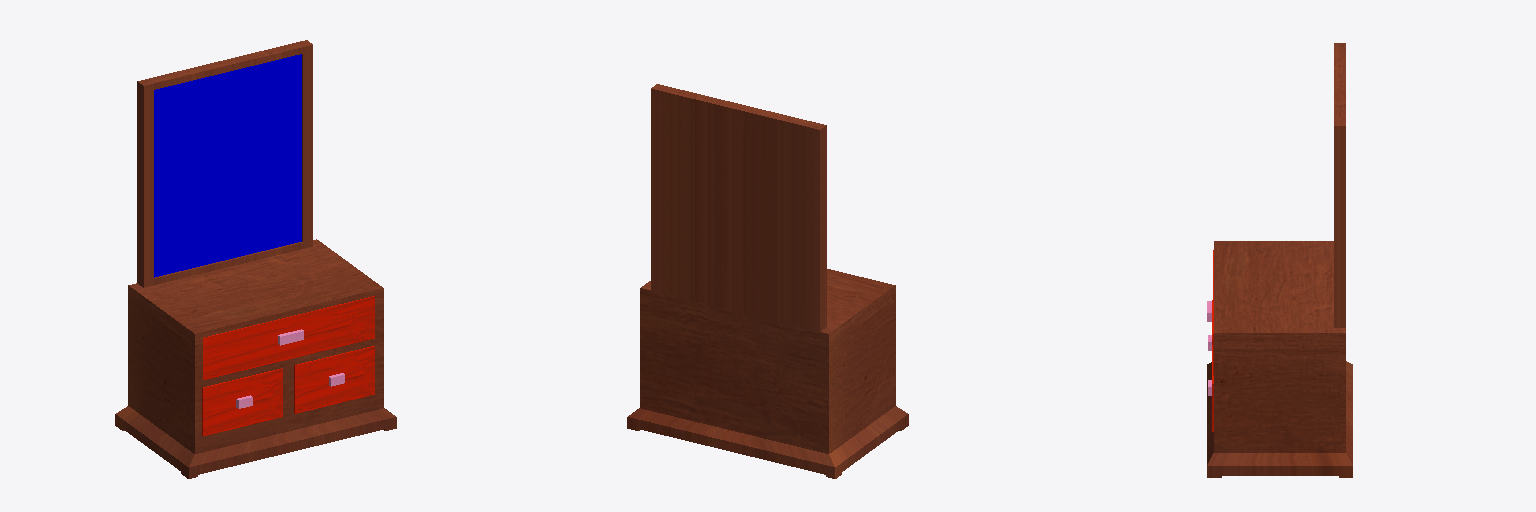
3 renders of one model, left to right at view 1: azimuth 30°, elevation 25°; view 2: azimuth 150°, elevation 25°; view 3: azimuth 270°, elevation 25°, orthographic.
Visible parts, largest first — view 1: dresser, big_dresser_drawer, drawer_1_001, drawer_1; view 2: dresser; view 3: dresser.
Boxes of the visible parts, box(x1,y1,x2,y2) form: dresser: box(115, 40, 396, 478); big_dresser_drawer: box(203, 296, 374, 379); drawer_1_001: box(294, 346, 374, 413); drawer_1: box(202, 368, 282, 435); dresser: box(627, 84, 908, 478); dresser: box(1207, 43, 1352, 477).
Bounding box in the file's own units: 4.28 × 6.73 × 2.61.
Materials: 4 (4 with a texture image).